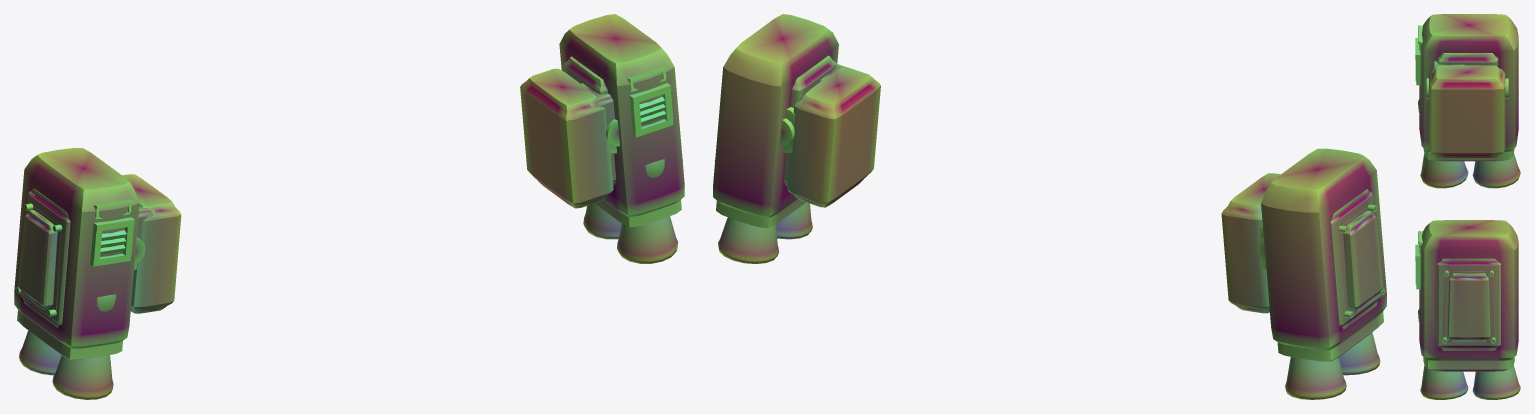
Rendered from llm_gen_leg_thrusters_118_8b4632.glb.
3 renders of one model, left to right at view 1: azimuth 30°, elevation 25°; view 2: azimuth 150°, elevation 25°; view 3: azimuth 270°, elevation 25°, orthographic. The views are drawn at different scales.
Parts seen in each view (by area): view 1: hover_cowling_armor_1_titanium_silver_l, hover_cowling_armor_1_titanium_silver_r, adapter_calf_clamp_r, adapter_calf_clamp_l, hover_flank_panel_5_wing_white_l, hover_bell_fwd_7_vernier_bell_vernier_l, hover_bell_fwd_7_vernier_bell_vernier_r, adapter_sub_hover_flank_dark_4_adapter_dark_l, adapter_sub_hover_manifold_dark_6_adapter_dark_l, adapter_sub_hover_intake_grille_2_dark_l, adapter_sub_hover_intake_grille_2_dark_r, hover_bell_aft_8_vernier_bell_vernier_l (+3 smaller); view 2: hover_cowling_armor_1_titanium_silver_l, hover_cowling_armor_1_titanium_silver_r, adapter_calf_clamp_r, adapter_calf_clamp_l, hover_flank_panel_5_wing_white_l, hover_bell_aft_8_vernier_bell_vernier_l, hover_bell_aft_8_vernier_bell_vernier_r, adapter_sub_hover_flank_dark_4_adapter_dark_l, adapter_sub_hover_manifold_dark_6_adapter_dark_l, hover_bell_fwd_7_vernier_bell_vernier_l, adapter_sub_hover_manifold_dark_6_adapter_dark_r, hover_bell_fwd_7_vernier_bell_vernier_r (+1 smaller); view 3: hover_cowling_armor_1_titanium_silver_r, adapter_calf_clamp_l, hover_cowling_armor_1_titanium_silver_l, hover_flank_panel_5_wing_white_r, adapter_sub_hover_flank_dark_4_adapter_dark_r, hover_bell_aft_8_vernier_bell_vernier_r, hover_bell_fwd_7_vernier_bell_vernier_r, hover_bell_aft_8_vernier_bell_vernier_l, hover_bell_fwd_7_vernier_bell_vernier_l, adapter_sub_hover_manifold_dark_6_adapter_dark_r, hover_core_mount_0_adapter_dark_l, adapter_sub_hover_manifold_dark_6_adapter_dark_l (+4 smaller).
Part boxes in pixels (bbox=[...]): hover_cowling_armor_1_titanium_silver_l: bbox=[14, 148, 139, 348]; hover_cowling_armor_1_titanium_silver_r: bbox=[559, 14, 684, 216]; adapter_calf_clamp_r: bbox=[520, 68, 616, 208]; adapter_calf_clamp_l: bbox=[122, 174, 181, 313]; hover_flank_panel_5_wing_white_l: bbox=[16, 203, 62, 316]; hover_bell_fwd_7_vernier_bell_vernier_l: bbox=[52, 355, 113, 399]; hover_bell_fwd_7_vernier_bell_vernier_r: bbox=[617, 216, 677, 263]; adapter_sub_hover_flank_dark_4_adapter_dark_l: bbox=[20, 188, 70, 327]; adapter_sub_hover_manifold_dark_6_adapter_dark_l: bbox=[17, 310, 122, 359]; adapter_sub_hover_intake_grille_2_dark_l: bbox=[90, 217, 134, 266]; adapter_sub_hover_intake_grille_2_dark_r: bbox=[629, 83, 673, 137]; hover_bell_aft_8_vernier_bell_vernier_l: bbox=[19, 330, 61, 375]; hover_cowling_armor_1_titanium_silver_l: bbox=[1261, 148, 1386, 350]; hover_cowling_armor_1_titanium_silver_r: bbox=[713, 14, 838, 217]; adapter_calf_clamp_r: bbox=[783, 67, 880, 207]; adapter_calf_clamp_l: bbox=[1221, 173, 1280, 313]; hover_flank_panel_5_wing_white_l: bbox=[1338, 204, 1385, 318]; hover_bell_aft_8_vernier_bell_vernier_l: bbox=[1285, 357, 1346, 399]; hover_bell_aft_8_vernier_bell_vernier_r: bbox=[718, 217, 779, 263]; adapter_sub_hover_flank_dark_4_adapter_dark_l: bbox=[1330, 189, 1381, 329]; adapter_sub_hover_manifold_dark_6_adapter_dark_l: bbox=[1277, 311, 1383, 361]; hover_bell_fwd_7_vernier_bell_vernier_l: bbox=[1339, 332, 1380, 375]; adapter_sub_hover_manifold_dark_6_adapter_dark_r: bbox=[716, 199, 805, 228]; hover_bell_fwd_7_vernier_bell_vernier_r: bbox=[776, 202, 812, 239]; hover_cowling_armor_1_titanium_silver_r: bbox=[1419, 220, 1518, 360]; adapter_calf_clamp_l: bbox=[1429, 65, 1505, 157]; hover_cowling_armor_1_titanium_silver_l: bbox=[1419, 14, 1518, 151]; hover_flank_panel_5_wing_white_r: bbox=[1442, 270, 1495, 343]; adapter_sub_hover_flank_dark_4_adapter_dark_r: bbox=[1437, 258, 1500, 350]; hover_bell_aft_8_vernier_bell_vernier_r: bbox=[1472, 366, 1520, 399]; hover_bell_fwd_7_vernier_bell_vernier_r: bbox=[1420, 365, 1468, 399]; hover_bell_aft_8_vernier_bell_vernier_l: bbox=[1472, 153, 1520, 188]; hover_bell_fwd_7_vernier_bell_vernier_l: bbox=[1420, 154, 1468, 188]; adapter_sub_hover_manifold_dark_6_adapter_dark_r: bbox=[1423, 357, 1514, 371]; hover_core_mount_0_adapter_dark_l: bbox=[1437, 53, 1498, 66]; adapter_sub_hover_manifold_dark_6_adapter_dark_l: bbox=[1423, 148, 1514, 161].
Bounding box in the file's own units: 82.74 × 25.73 × 15.18.
